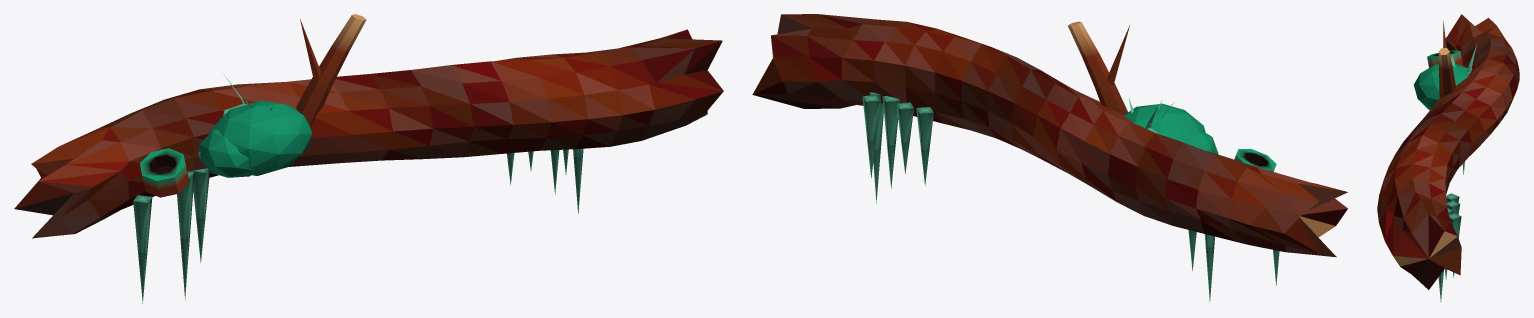
Rendered from pohon_tumbang_bridge_redwood_352685.glb.
3 renders of one model, left to right at view 1: azimuth 30°, elevation 25°; view 2: azimuth 150°, elevation 25°; view 3: azimuth 270°, elevation 25°, orthographic. The views are drawn at different scales.
Parts seen in each view (by area): view 1: Batang_Melintang_Sungai; view 2: Batang_Melintang_Sungai; view 3: Batang_Melintang_Sungai.
Part boxes in pixels (left/top/right/bottom): Batang_Melintang_Sungai: left=14, top=14, right=723, bottom=303; Batang_Melintang_Sungai: left=752, top=14, right=1348, bottom=302; Batang_Melintang_Sungai: left=1377, top=14, right=1519, bottom=302.
Size of the model in its own units: 7.46 by 2.95 by 2.
